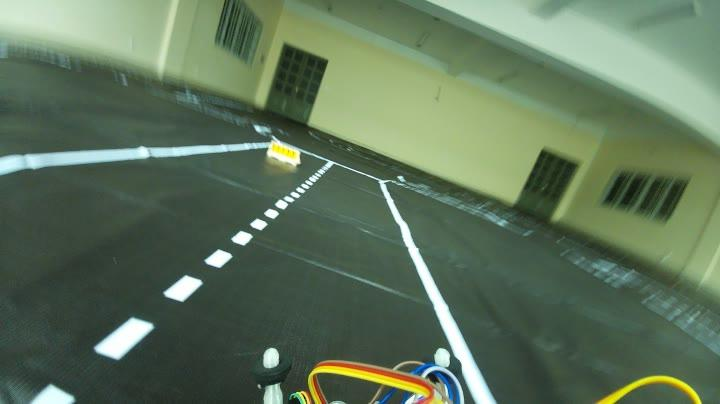roadblock: (270, 129, 300, 172)
